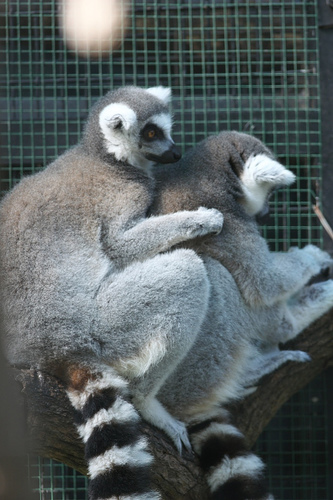cat: (0, 80, 230, 498), (147, 127, 331, 498)
